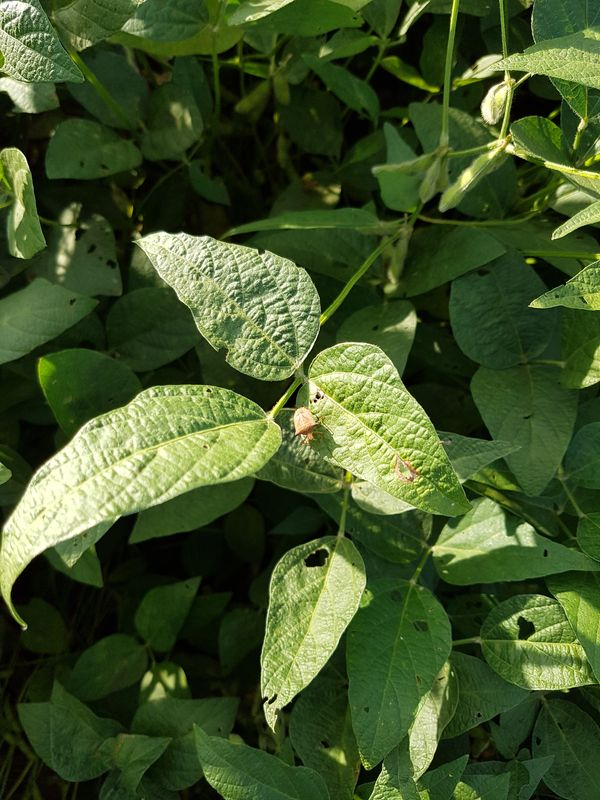Euschistus_heros_adulto: (283, 401, 329, 448)
